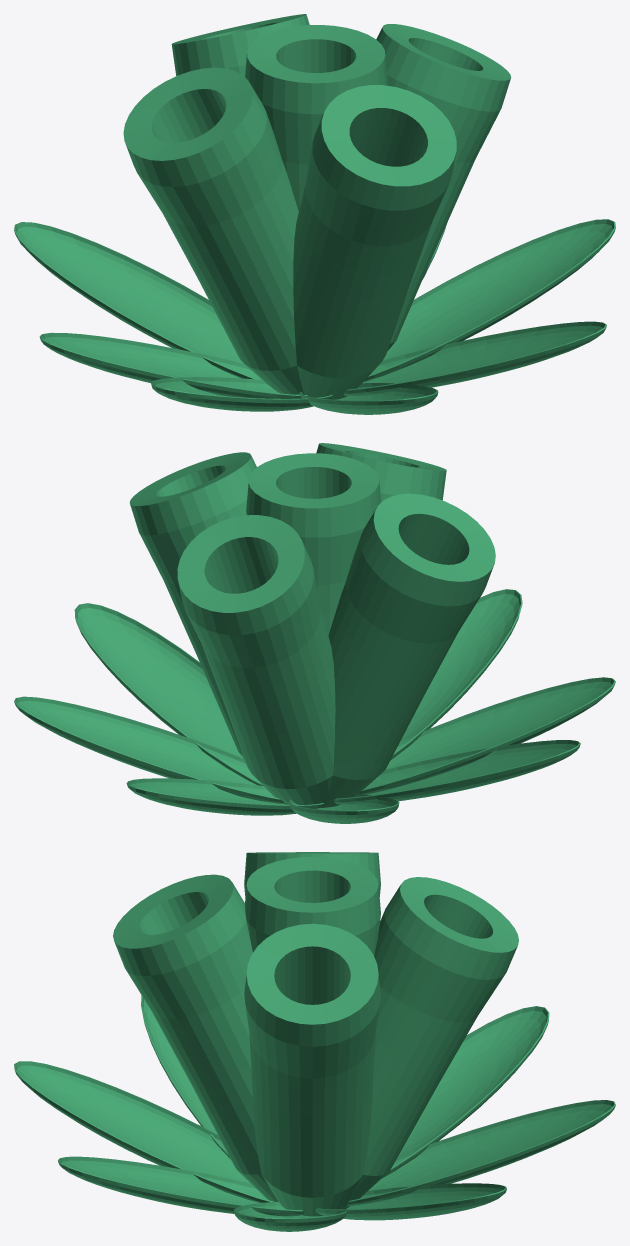
3 views of the same model, one above another, from view 1: azimuth 30°, elevation 25°; view 2: azimuth 150°, elevation 25°; view 3: azimuth 270°, elevation 25° (orthographic). The views are drawn at different scales.
Parts seen in each view (by area): view 1: Sphere.004; view 2: Sphere.004; view 3: Sphere.004.
Boxes of the visible parts, x1,y1,x2,y2 form: Sphere.004: [14, 14, 615, 414]; Sphere.004: [14, 443, 615, 823]; Sphere.004: [14, 852, 615, 1231].
Bounding box in the file's own units: 1.18 × 0.6941 × 1.17.
